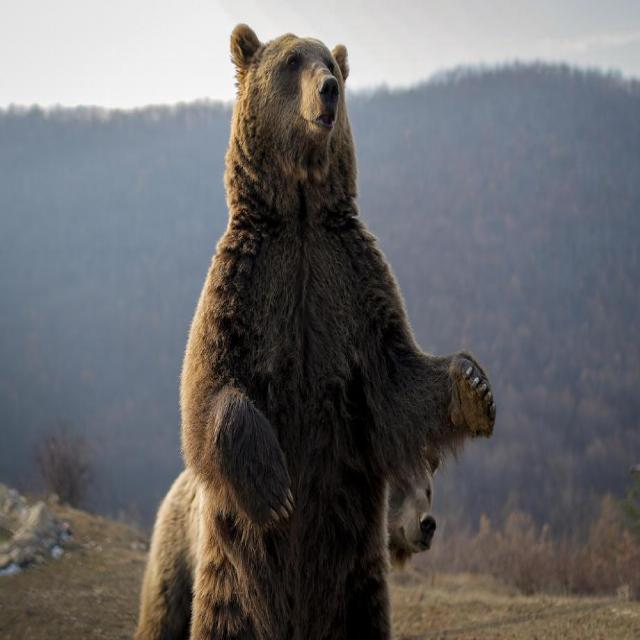Bear: (132, 24, 496, 640), (389, 490, 436, 559)
